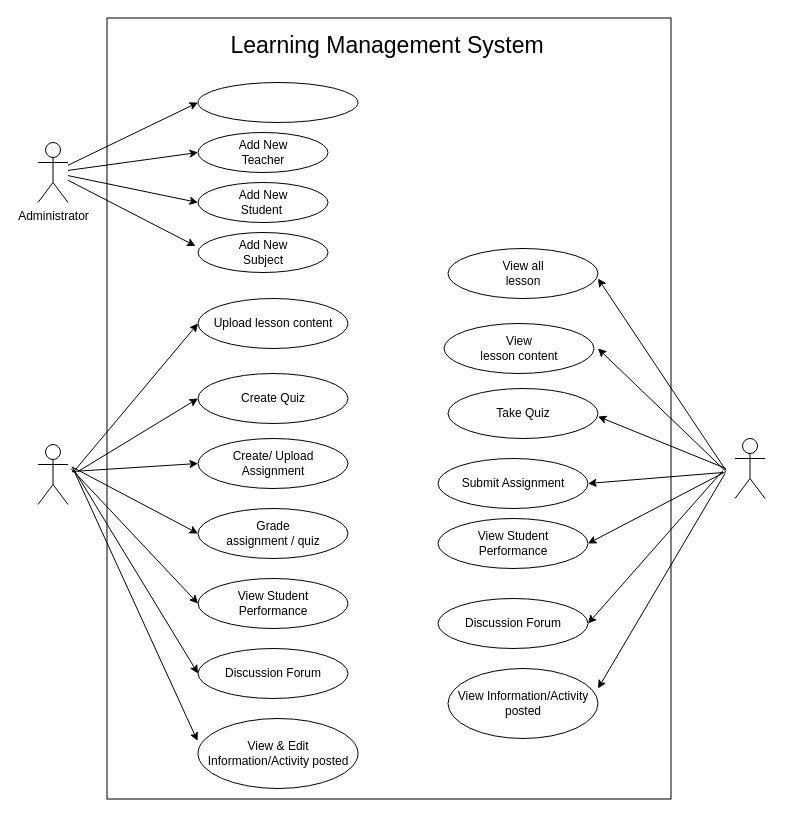
Image size: 788x816. Some labels were removed from this diagram. The centre of each missing label's shape, as x and y in pixels:
"Add New Information / Activities" belongs at (277,102).
"Student" belongs at (749,468).
"Teacher" belongs at (52,474).
